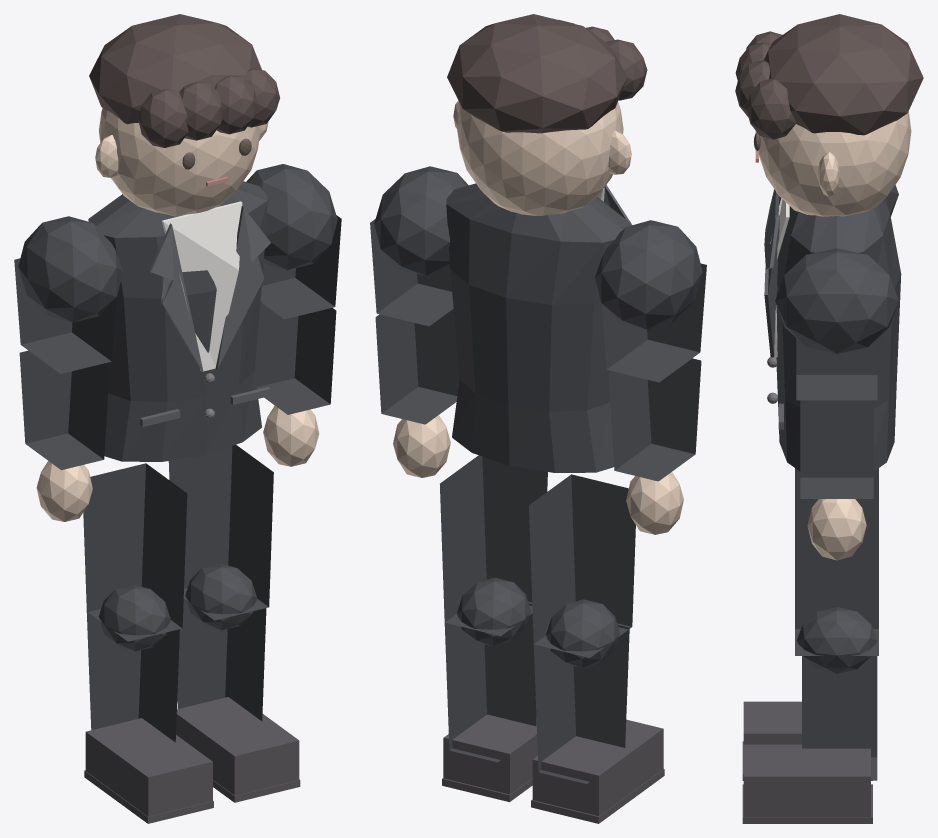
The model's file is male_teacher_black_suit.glb.
The picture shows the model from 3 angles, left to right: view 1: azimuth 30°, elevation 25°; view 2: azimuth 150°, elevation 25°; view 3: azimuth 270°, elevation 25°; orthographic projection. The views are drawn at different scales.
Visible parts, largest first — view 1: SuitJacket, LeftThigh, RightThigh, HairCap, Head, LeftShoe, LeftShoulderCap, LeftForearmSleeve, RightShoe, LeftShin, RightShin, RightForearmSleeve (+17 smaller); view 2: SuitJacket, HairCap, LeftThigh, RightThigh, Head, LeftShoulderCap, LeftForearmSleeve, LeftShin, RightShin, LeftShoe, RightForearmSleeve, RightShoulderCap (+11 smaller); view 3: HairCap, SuitJacket, Head, RightShoulderCap, RightShoe, RightThigh, RightForearmSleeve, RightShin, RightUpperSleeve, RightKneeCover, RightHand, LeftShoe (+8 smaller).
Boxes of the visible parts, <box> form: SuitJacket: <box>88,181,267,461</box>; LeftThigh: <box>83,463,187,641</box>; RightThigh: <box>168,445,273,620</box>; HairCap: <box>89,14,261,124</box>; Head: <box>99,108,260,216</box>; LeftShoe: <box>85,718,212,816</box>; LeftShoulderCap: <box>18,216,123,322</box>; LeftForearmSleeve: <box>19,350,109,469</box>; RightShoe: <box>176,697,299,795</box>; LeftShin: <box>86,607,179,742</box>; RightShin: <box>177,586,266,721</box>; RightForearmSleeve: <box>254,302,336,414</box>; SuitJacket: <box>446,183,630,472</box>; HairCap: <box>447,14,627,133</box>; LeftThigh: <box>529,474,635,657</box>; RightThigh: <box>440,455,547,636</box>; Head: <box>457,101,623,215</box>; LeftShoulderCap: <box>595,220,702,329</box>; LeftForearmSleeve: <box>608,358,701,481</box>; LeftShin: <box>533,625,629,783</box>; RightShin: <box>444,603,536,762</box>; LeftShoe: <box>532,719,663,815</box>; RightForearmSleeve: <box>375,309,459,424</box>; RightShoulderCap: <box>374,166,468,275</box>; HairCap: <box>764,14,923,135</box>; SuitJacket: <box>776,198,901,471</box>; Head: <box>755,111,911,216</box>; RightShoulderCap: <box>775,248,898,353</box>; RightShoe: <box>743,744,870,816</box>; RightThigh: <box>795,490,878,655</box>; RightForearmSleeve: <box>800,400,873,498</box>; RightShin: <box>802,656,877,780</box>; RightUpperSleeve: <box>796,338,877,400</box>; RightKneeCover: <box>797,607,877,673</box>; RightHand: <box>807,499,866,560</box>; LeftShoe: <box>743,701,801,744</box>.
Bounding box in the file's own units: 0.798 × 1.89 × 0.426.
